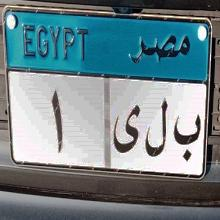1: (51, 89, 65, 155)
baa: (172, 110, 202, 164)
laam: (146, 95, 168, 161)
yaa: (113, 101, 141, 156)
